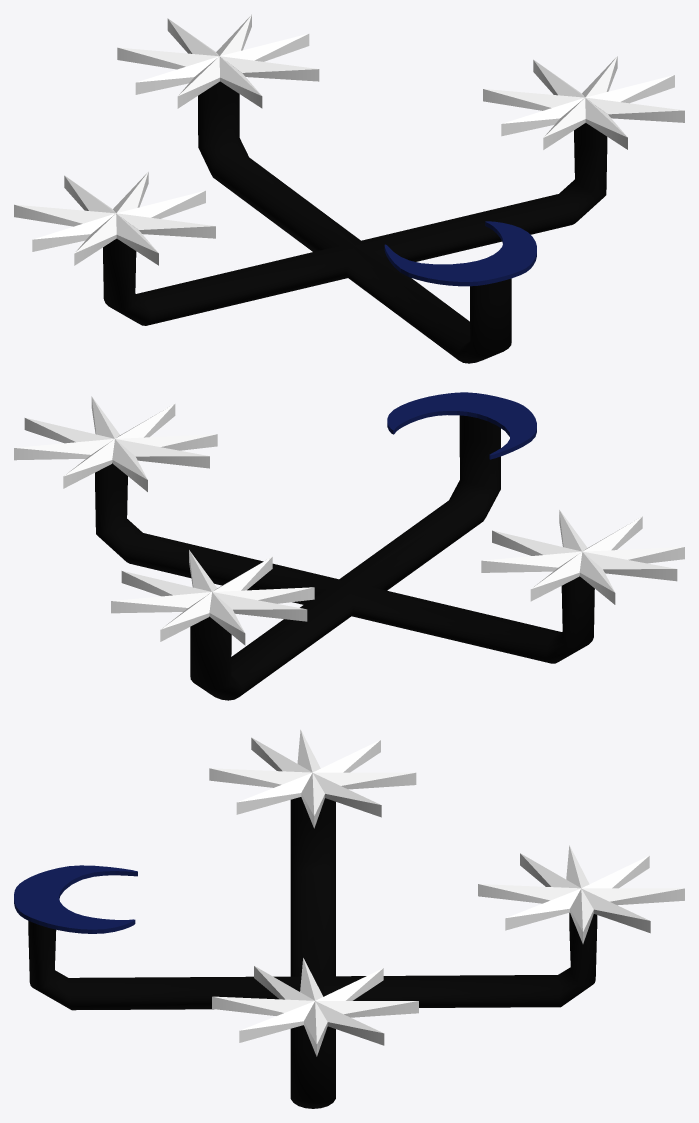
File: puzzle_piece_Moon.FBX
3 views of the same model, one above another, from view 1: azimuth 30°, elevation 25°; view 2: azimuth 150°, elevation 25°; view 3: azimuth 270°, elevation 25° (orthographic).
Parts seen in each view (by area): view 1: Moon001; view 2: Moon001; view 3: Moon001.
Part boxes in pixels (x1,y1,x2,y2): Moon001: [14, 14, 684, 363]; Moon001: [14, 392, 684, 700]; Moon001: [14, 729, 684, 1108].
Bounding box in the file's own units: 65.28 × 11.42 × 58.62.
